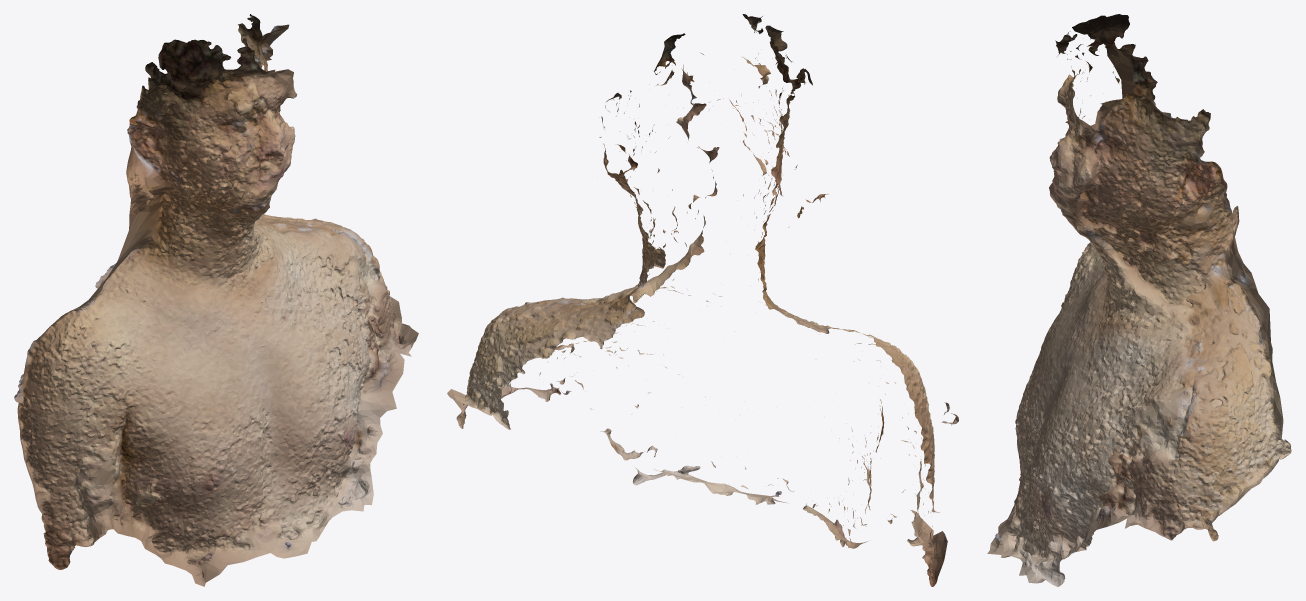
File: if-you-could-do-it-all-again.glb
The picture shows the model from 3 angles, left to right: view 1: azimuth 30°, elevation 25°; view 2: azimuth 150°, elevation 25°; view 3: azimuth 270°, elevation 25°; orthographic projection. The views are drawn at different scales.
Parts seen in each view (by area): view 1: geometry_0; view 2: geometry_0; view 3: geometry_0.
Boxes of the visible parts, x1,y1,x2,y2 form: geometry_0: [14, 14, 418, 586]; geometry_0: [447, 14, 958, 586]; geometry_0: [987, 14, 1291, 586].
Size of the model in its own units: 5.42 by 6.12 by 3.19.
